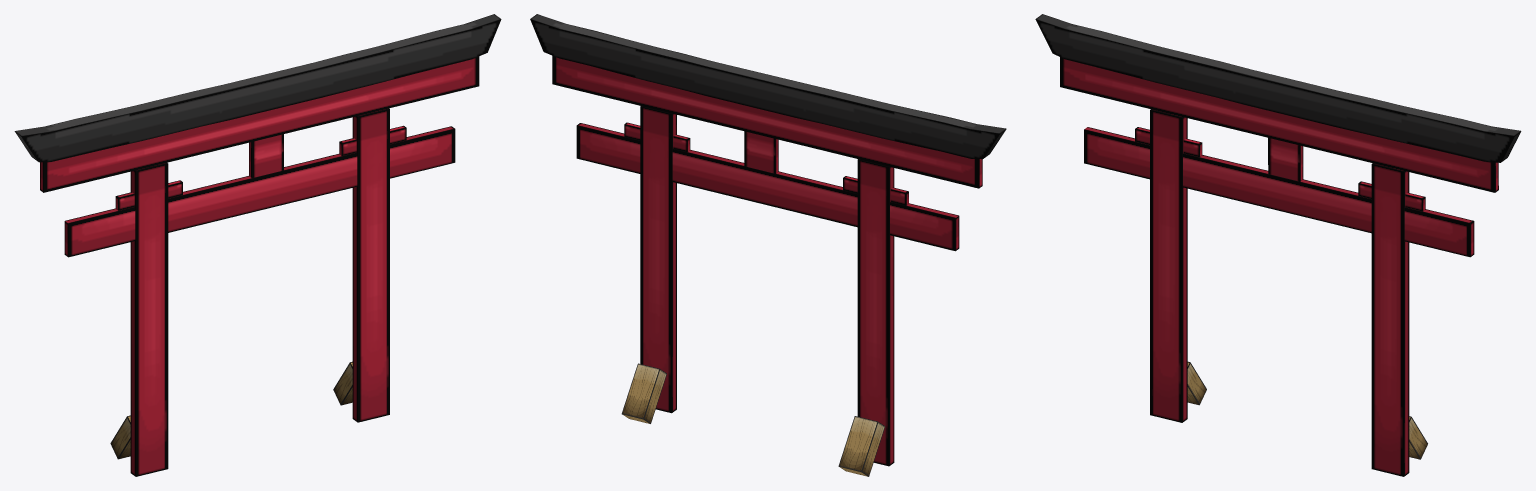
Rendered from ShrineEntry.FBX.
The picture shows the model from 3 angles, left to right: view 1: azimuth 30°, elevation 25°; view 2: azimuth 150°, elevation 25°; view 3: azimuth 330°, elevation 25°; orthographic projection. The views are drawn at different scales.
Parts seen in each view (by area): view 1: Box001, Box002, Box003, Box004; view 2: Box001, Box002, Box003, Box004; view 3: Box001, Box002, Box003, Box004.
Part boxes in pixels (<box>): Box001: <box>40,56,479,476</box>; Box002: <box>14,14,501,162</box>; Box003: <box>110,415,130,459</box>; Box004: <box>333,361,352,405</box>; Box001: <box>552,55,982,466</box>; Box002: <box>530,14,1006,159</box>; Box003: <box>838,416,885,476</box>; Box004: <box>621,363,666,423</box>; Box001: <box>1060,57,1498,476</box>; Box002: <box>1035,14,1521,162</box>; Box003: <box>1187,361,1206,405</box>; Box004: <box>1409,416,1427,459</box>.
Size of the model in its own units: 234 by 172 by 25.18.
Materials: 1 (1 with a texture image).
